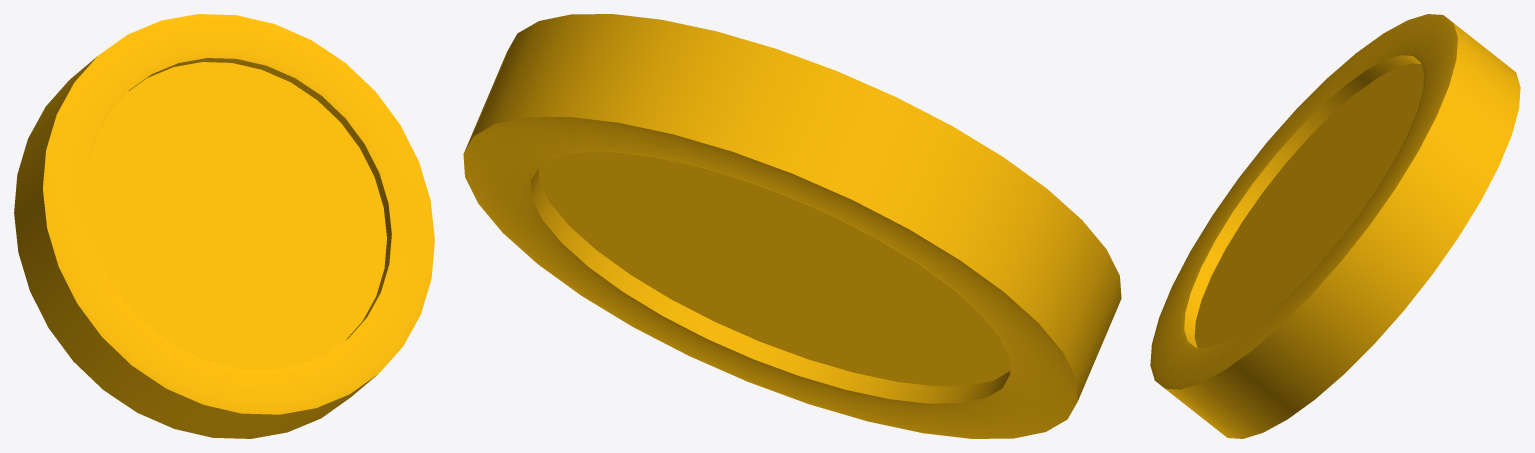
Rendered from Coin.fbx.
3 renders of one model, left to right at view 1: azimuth 30°, elevation 25°; view 2: azimuth 150°, elevation 25°; view 3: azimuth 270°, elevation 25°, orthographic. The views are drawn at different scales.
Parts seen in each view (by area): view 1: Coin; view 2: Coin; view 3: Coin.
Boxes of the visible parts, <box> form: Coin: <box>14,14,434,438</box>; Coin: <box>463,14,1121,438</box>; Coin: <box>1150,14,1520,438</box>.
Bounding box in the file's own units: 89.69 × 77.97 × 70.93.
